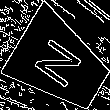N_SE: (31, 33, 90, 94)
